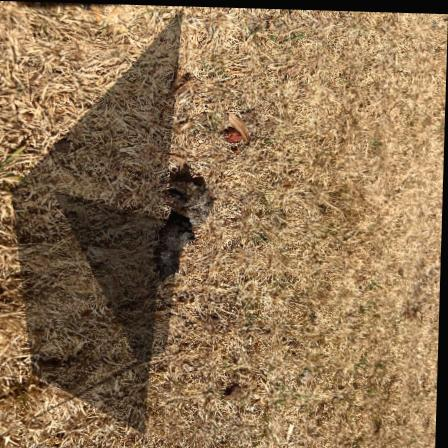dog-poop: (154, 167, 215, 277)
